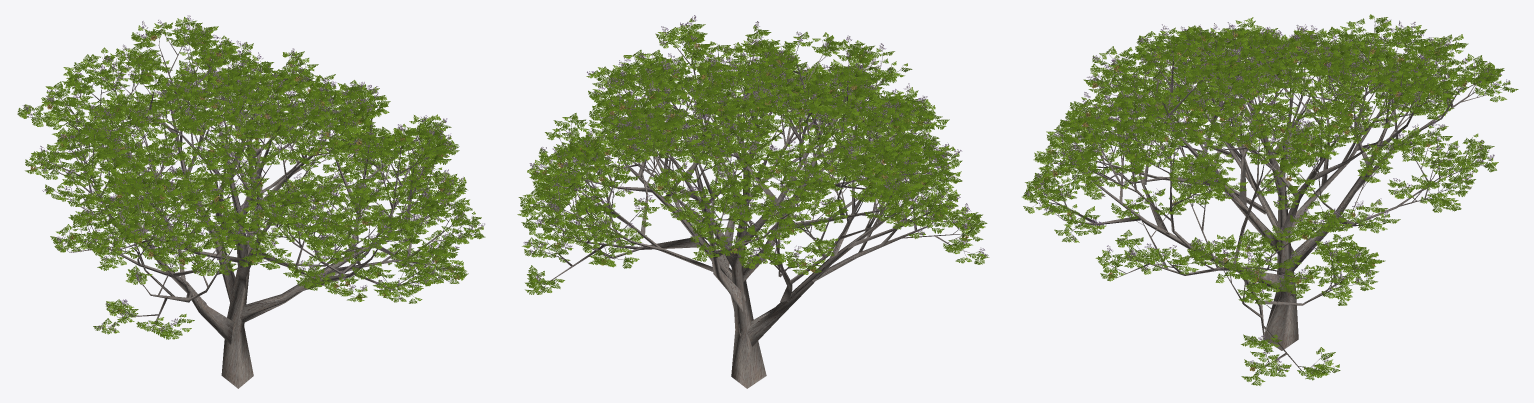
Rendered from Melia azedarach HD_Wild mat 100_LOD4.fbx.
3 views of the same model, side by side, from view 1: azimuth 30°, elevation 25°; view 2: azimuth 150°, elevation 25°; view 3: azimuth 270°, elevation 25° (orthographic). The views are drawn at different scales.
Parts seen in each view (by area): view 1: Melia_azedarach_HD; view 2: Melia_azedarach_HD; view 3: Melia_azedarach_HD.
Part boxes in pixels (box(x1,y1,x2,y2)): Melia_azedarach_HD: box(17, 15, 485, 388); Melia_azedarach_HD: box(517, 15, 989, 388); Melia_azedarach_HD: box(1022, 14, 1518, 385).
Size of the model in its own units: 11.99 by 8.19 by 12.24.
